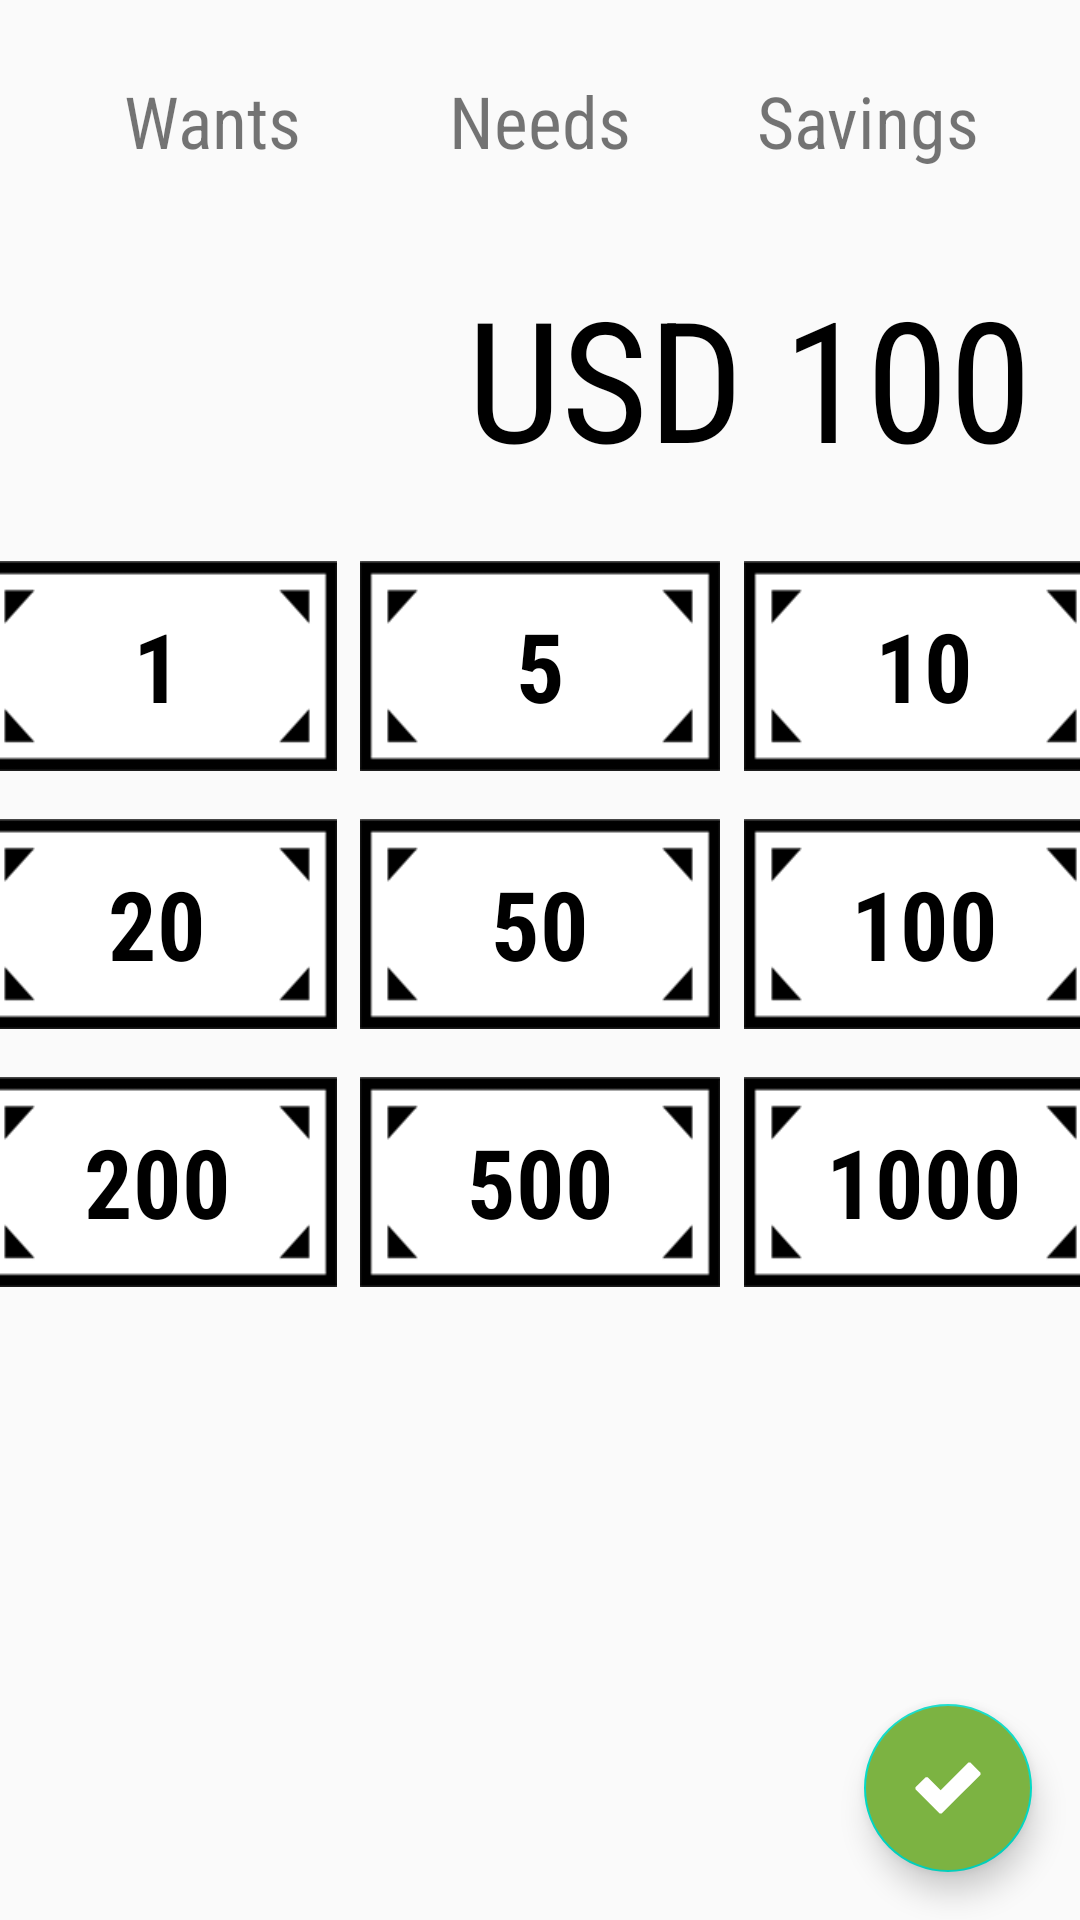

Icon bounding boxes for this 1080×1920 phone screenshot, format (x1,y1,x2,y2):
checktoplus: (864,1704,1032,1872)
